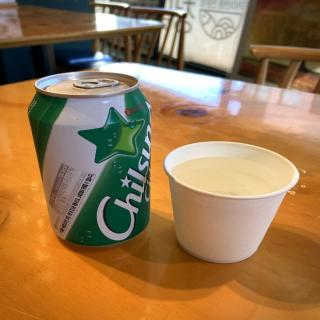chilsung: (25, 69, 153, 247)
